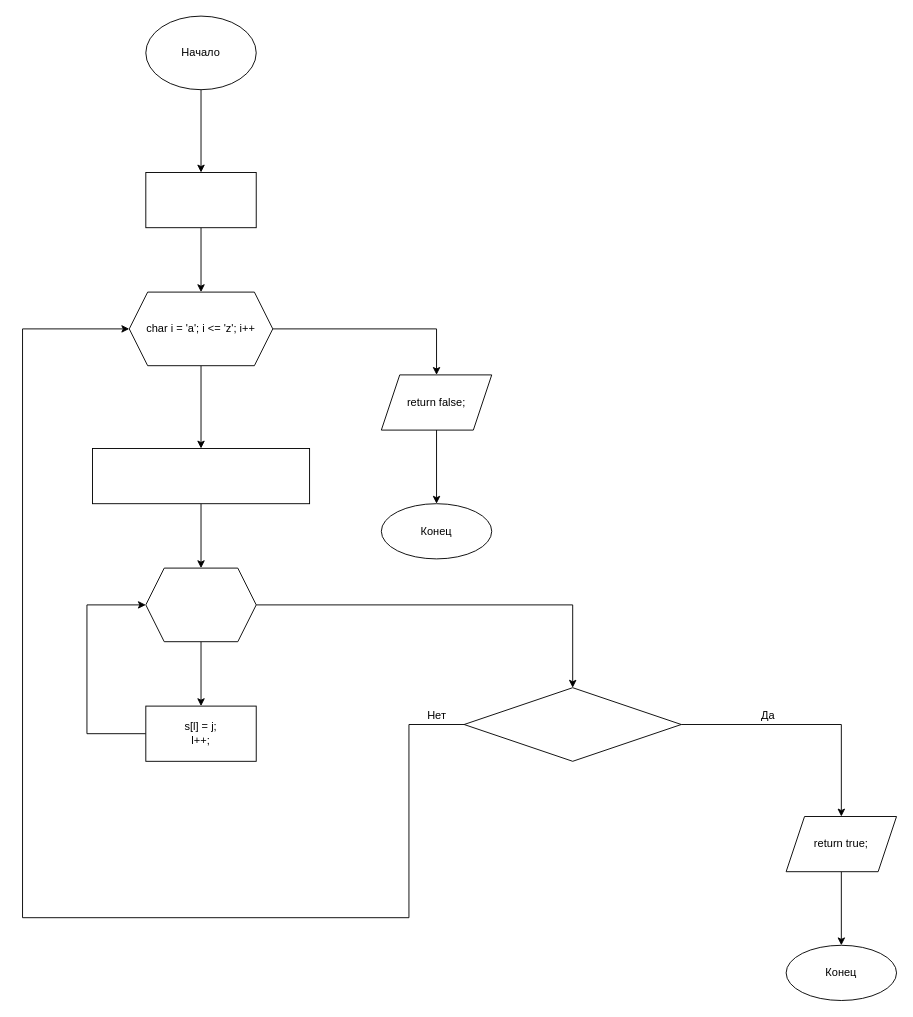
This 913x1017 diagram has some shape labels left out. Each missing label, with the centre of its shape:
char j = i; j <= 'z'; j++: the point at 200,604
char* s; int l = 0; int len;: the point at 200,200
CompareWord(word, size, s, len): the point at 572,724
len = abs(122 - int(i) + 1); s = new char[len + 1]; l = 0;: the point at 201,476
